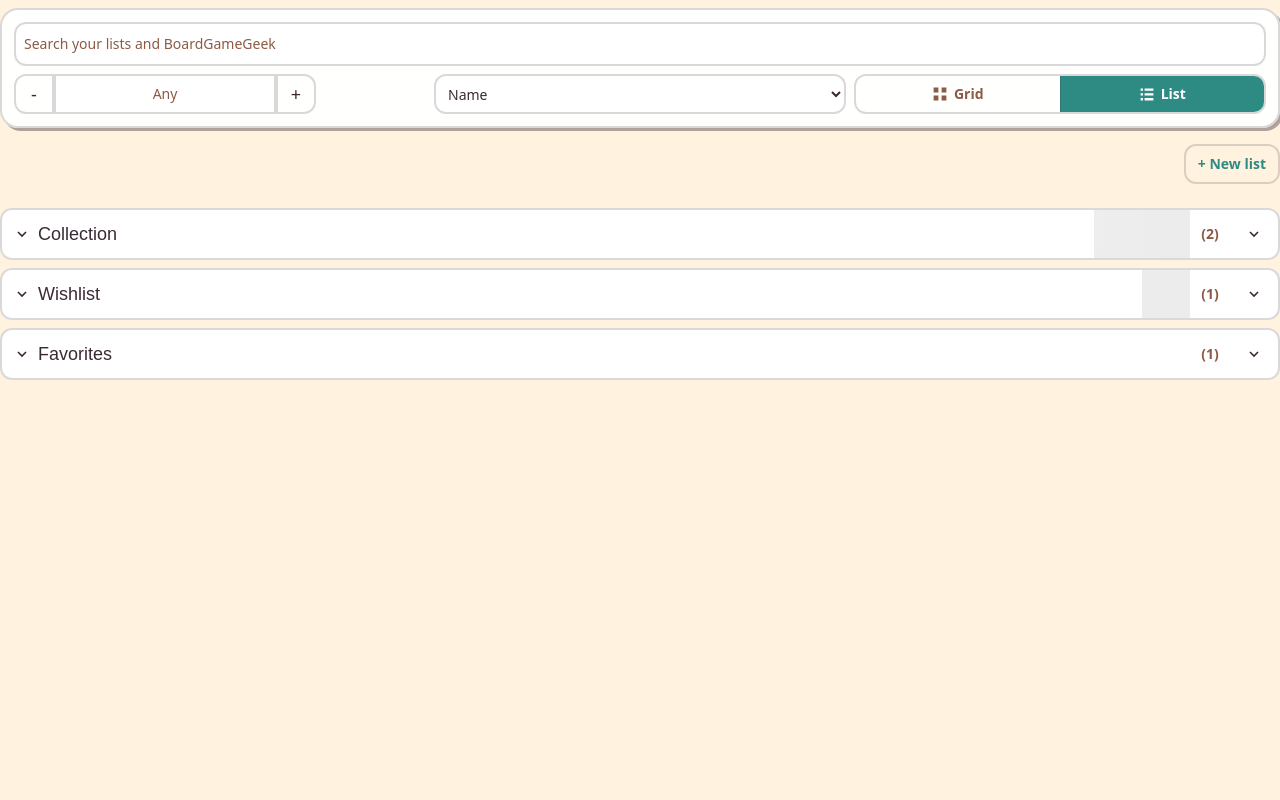
PersonalCollection lists › opens the exact match from a custom list on Enter before BGG results arrive
Check: the button with aria-label "Favorites (1)" is shown, box [2,330,1190,378]
Type "azul" into the field labelled "Search your lists and BoardGameGeek" at (640, 44), box [14,22,1266,66]
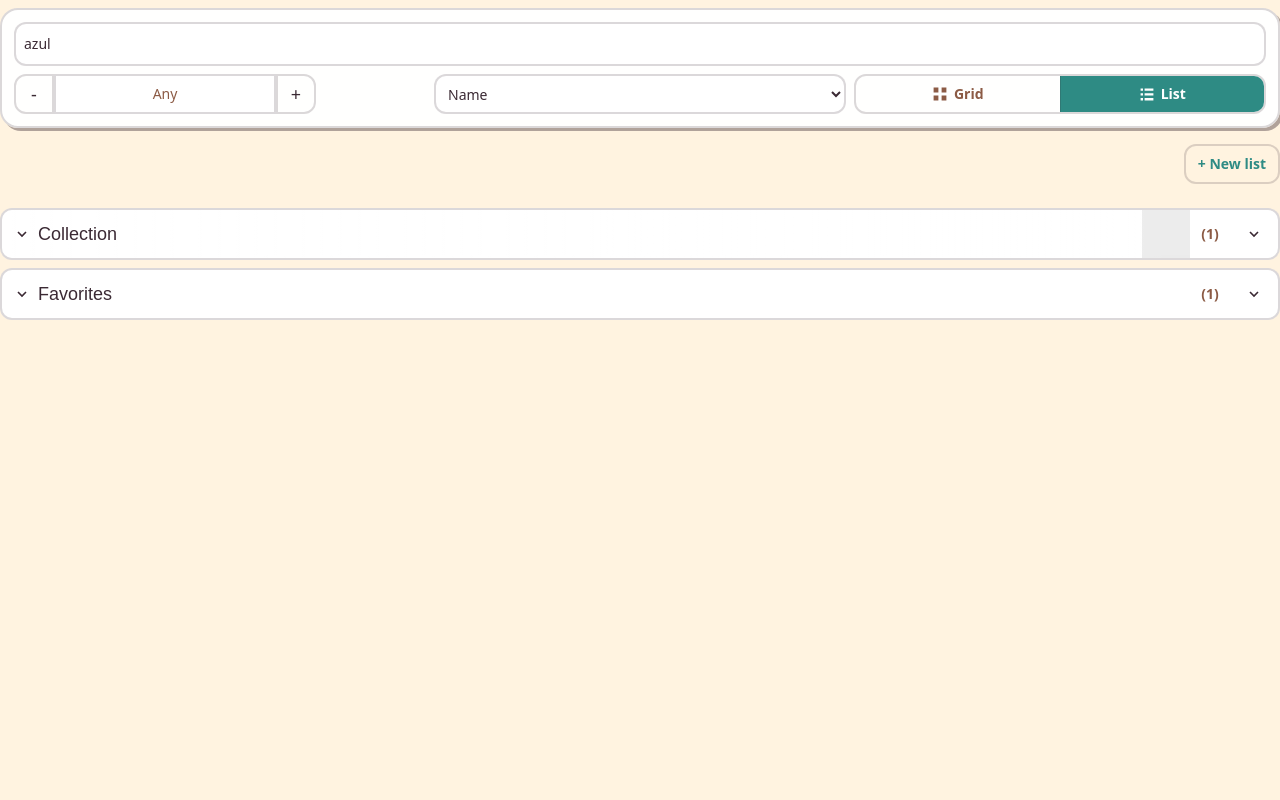
Press Enter in the field named "Search your lists and BoardGameGeek", box [14,22,1266,66]
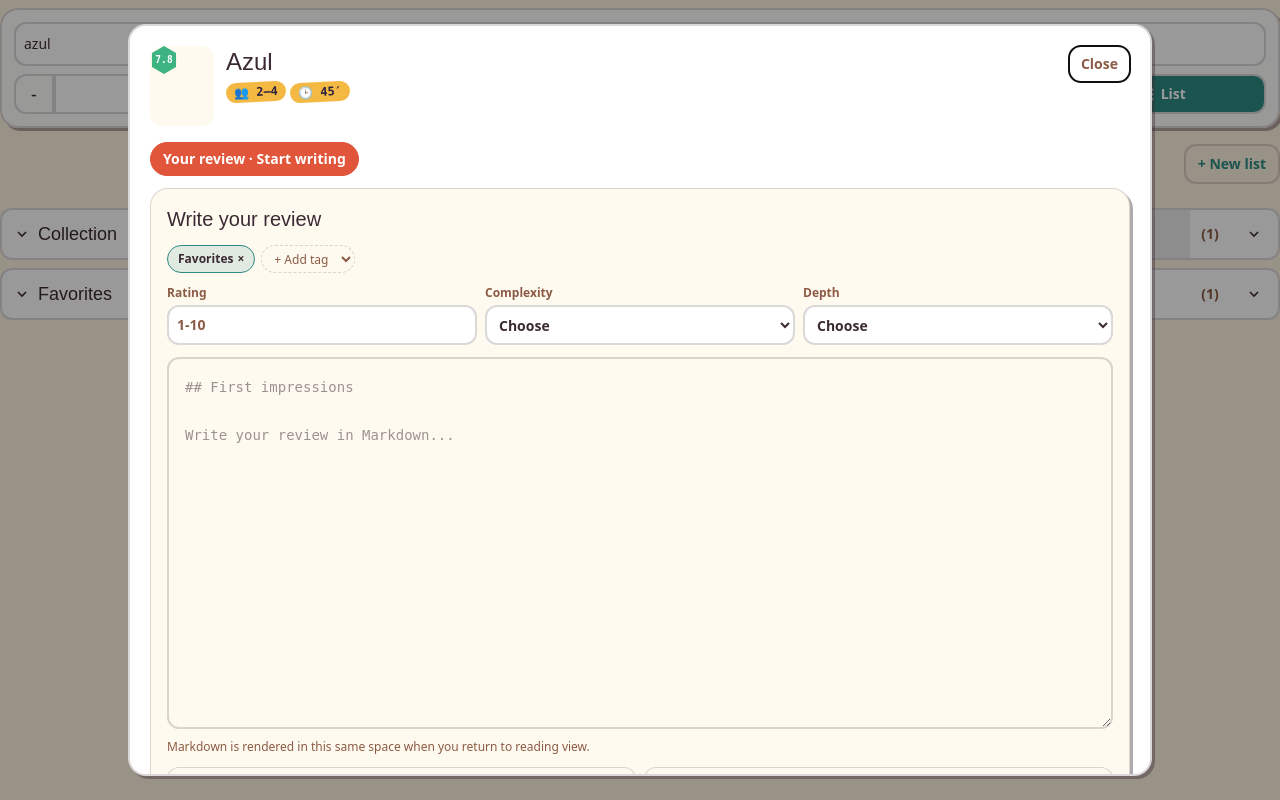
Check: the link "Azul" is shown, box [226,48,273,75]
